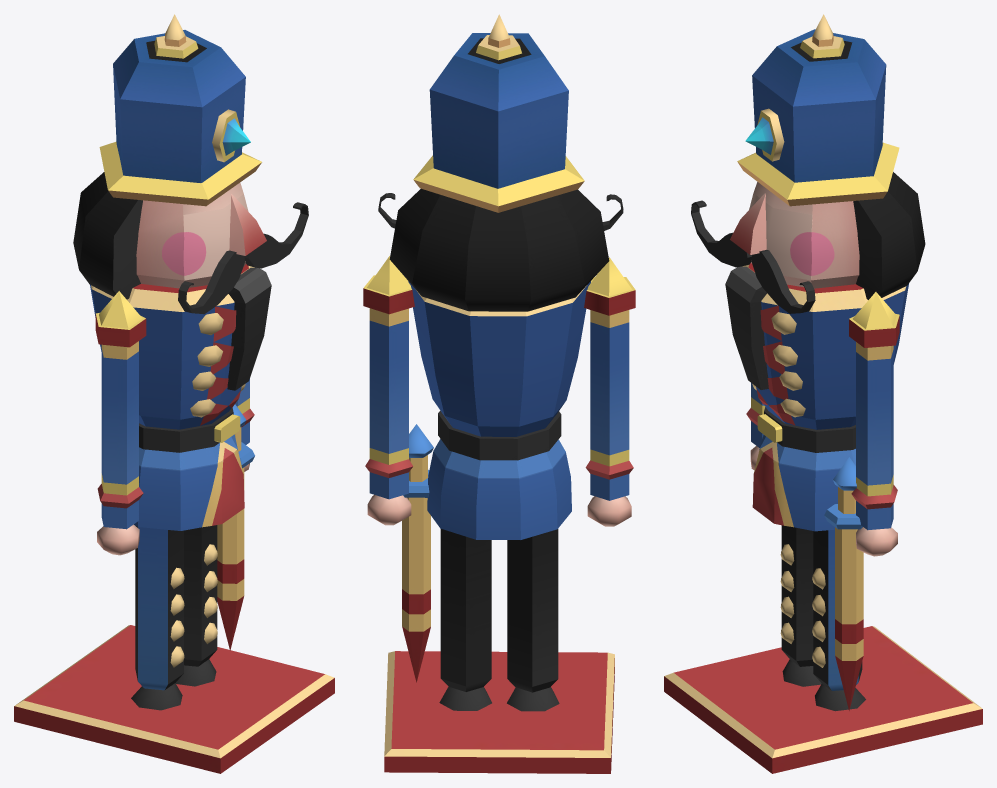
Rendered from hutaojiazi_2.FBX.
The picture shows the model from 3 angles, left to right: view 1: azimuth 30°, elevation 25°; view 2: azimuth 150°, elevation 25°; view 3: azimuth 270°, elevation 25°; orthographic projection. The views are drawn at different scales.
Visible parts, largest first — view 1: body001, base001, head001, hat001, legs001, arms001, sword001; view 2: body001, base001, hat001, head001, arms001, legs001, sword001; view 3: base001, head001, body001, hat001, arms001, legs001, sword001.
Boxes of the visible parts, x1,y1,x2,y2 form: body001: (90, 264, 254, 530); base001: (14, 625, 334, 773); head001: (73, 172, 308, 390); hat001: (99, 14, 261, 206); legs001: (131, 525, 217, 710); arms001: (95, 291, 254, 555); sword001: (217, 404, 254, 650); body001: (408, 281, 590, 539); base001: (384, 651, 614, 773); hat001: (413, 14, 584, 212); head001: (378, 188, 623, 311); arms001: (363, 256, 635, 526); legs001: (439, 529, 559, 711); sword001: (402, 424, 433, 682); base001: (664, 626, 982, 773); head001: (691, 172, 925, 389); body001: (742, 263, 908, 531); hat001: (737, 14, 899, 206); arms001: (746, 292, 899, 556); legs001: (780, 525, 865, 711); sword001: (824, 457, 863, 710).
Bounding box in the file's own units: 7.83 × 19.24 × 8.
Materials: 1 (1 with a texture image).
